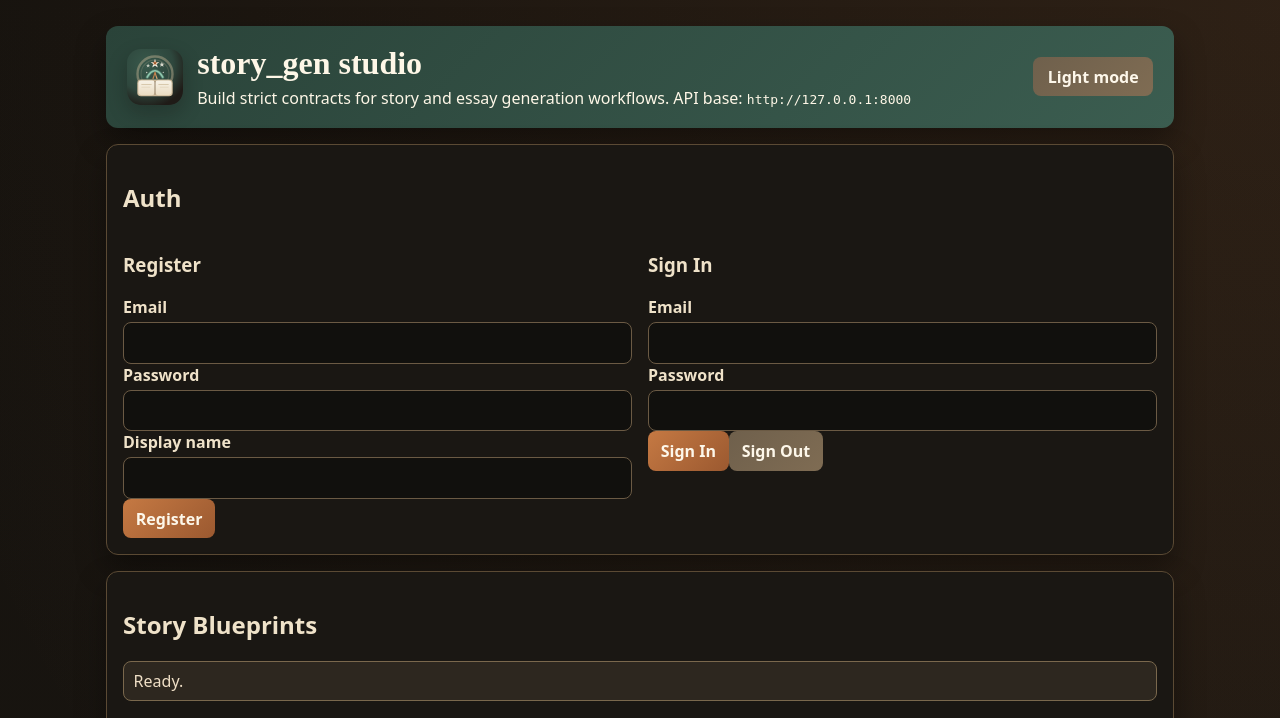
Test: App › registers a user and updates status text
Type "writer@example.com" into the 1st field labelled "Email". click: (378, 343)
box: [123,322,632,364]
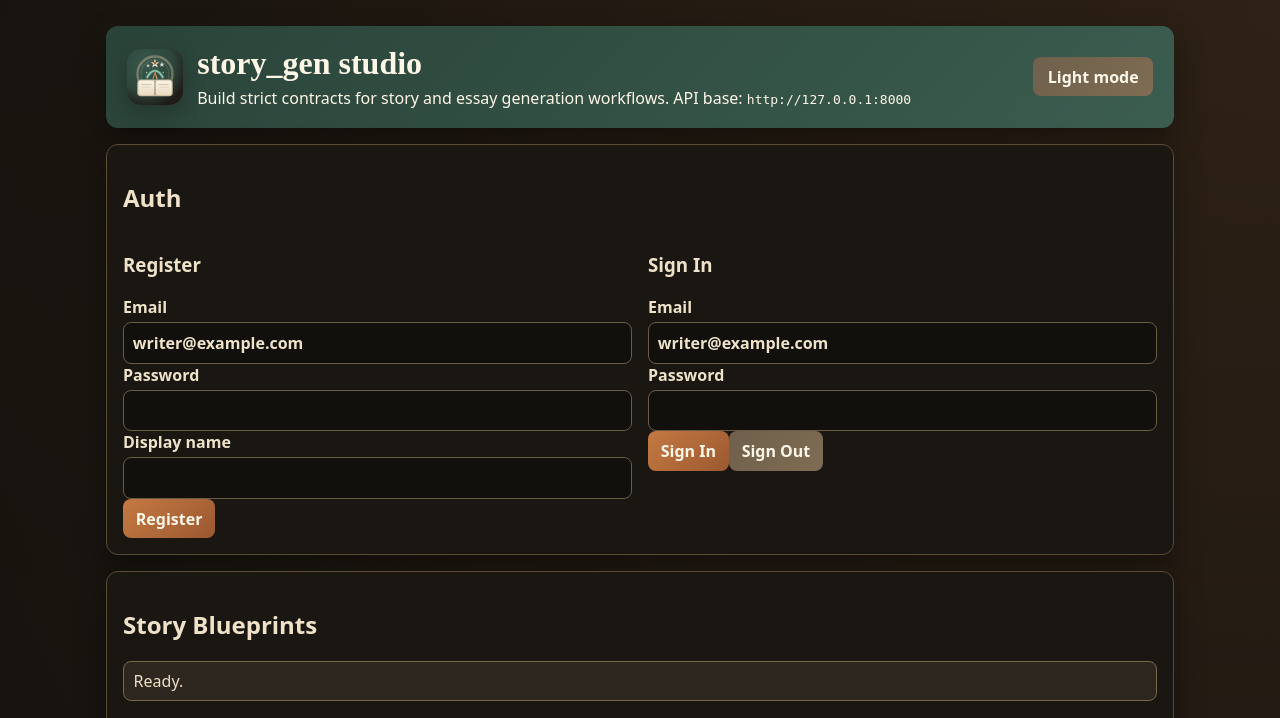
Type "secret123" into the 1st password field labelled "Password". click: (378, 410)
box: [123,390,632,431]
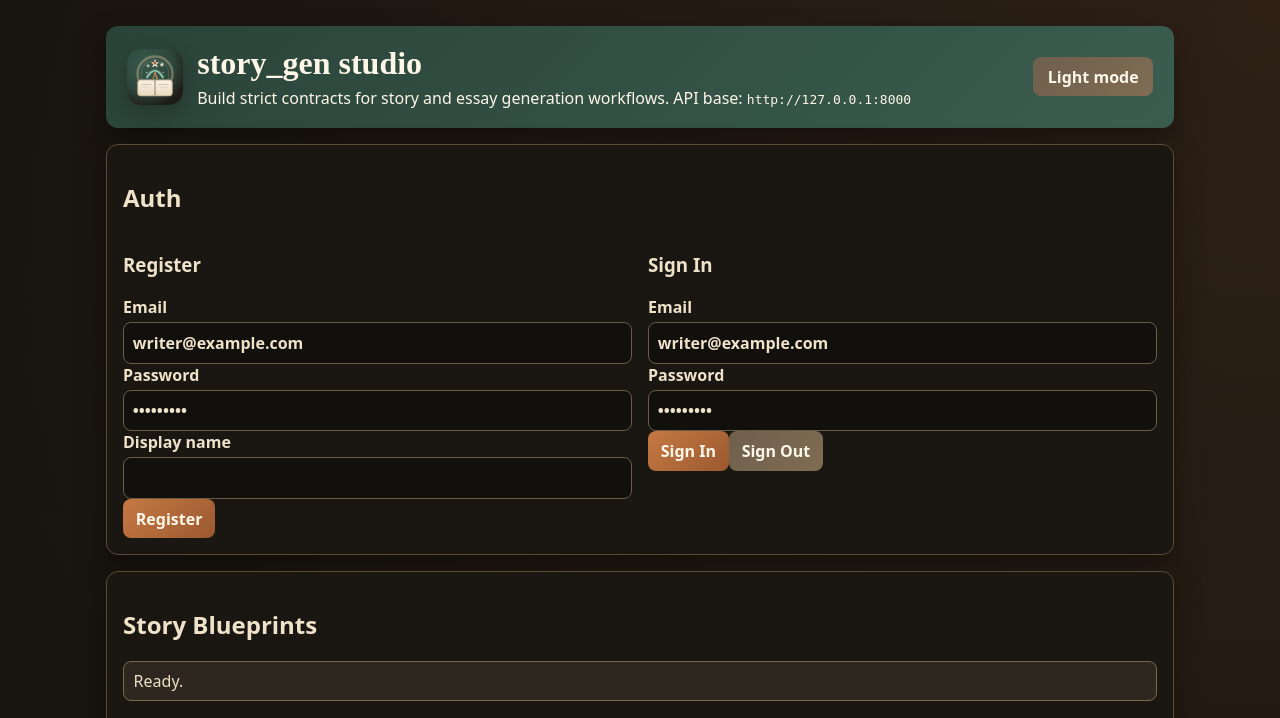
Type "Writer" into the field labelled "Display name". click: (378, 478)
box: [123,457,632,499]
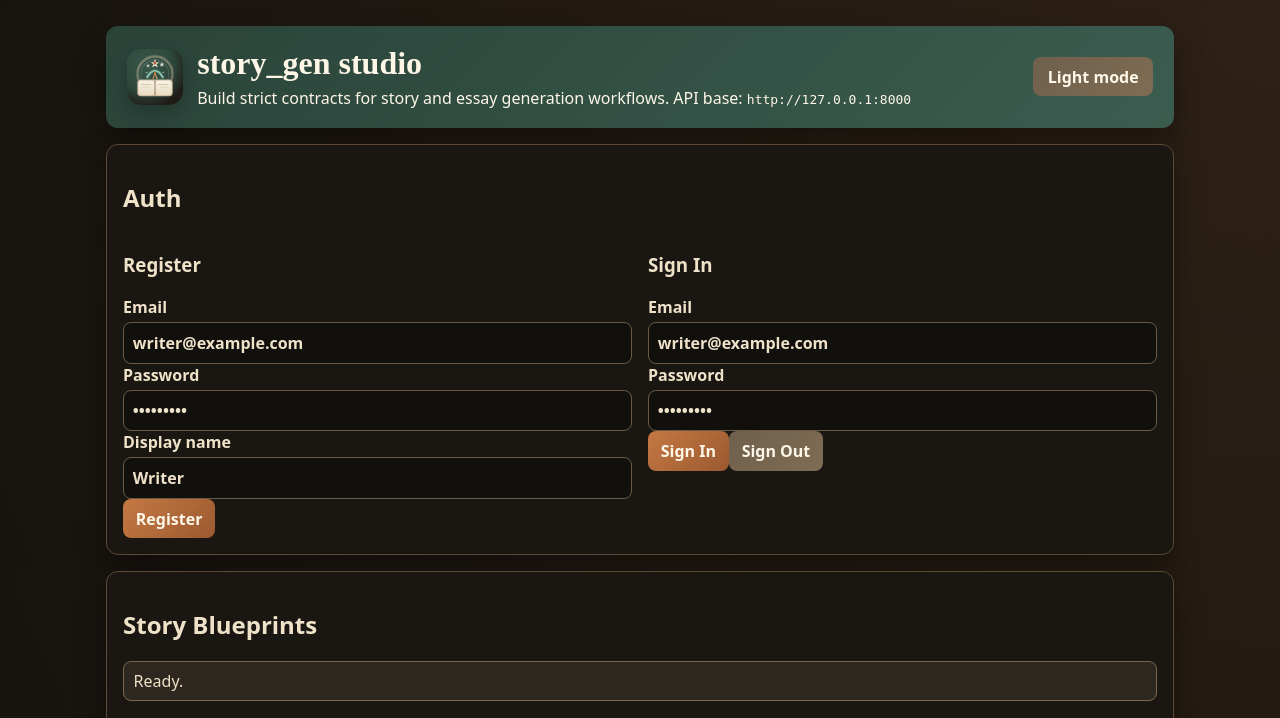
Click the button "Register". click: click(169, 519)
box: [123,499,215,538]
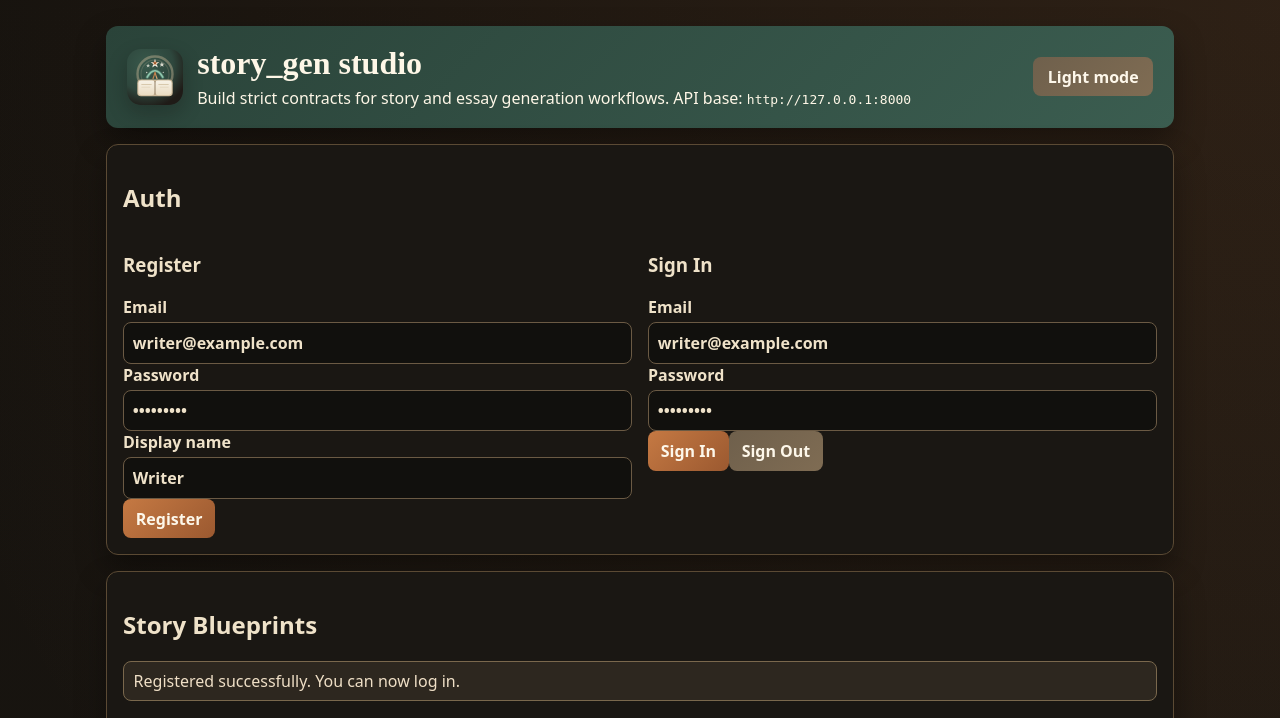
Check: the text "Registered successfully. You can now log in." is shown, box [123,661,1157,701]
